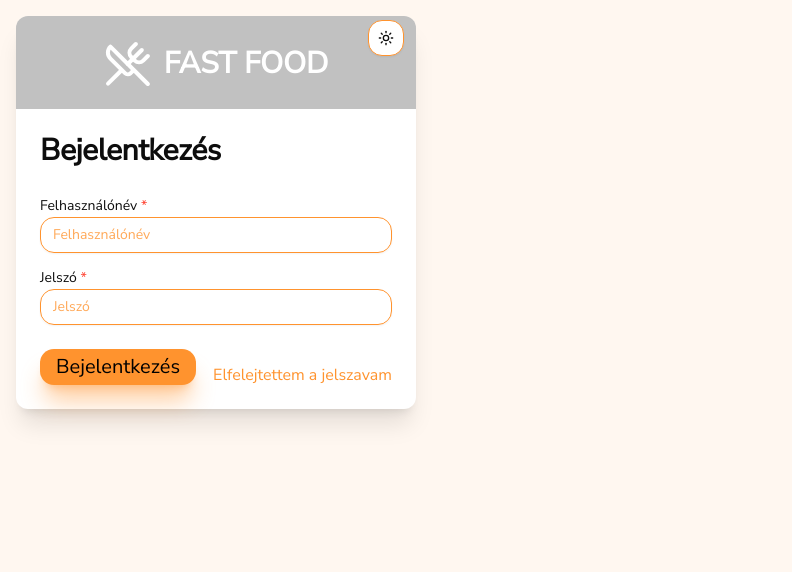
Login oldal › Hibás adatokkal nem enged be
Type "rossznev" into the field with test id "name".
click(216, 235); type("rossznev")  # box [40,217,392,253]
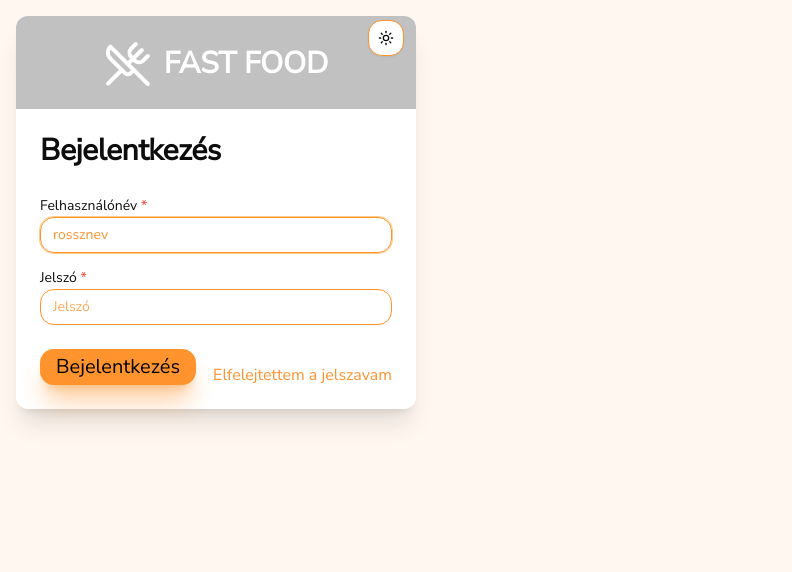
Type "RosszJelszó123!" into the password field with test id "password".
click(216, 307); type("RosszJelszó123!")  # box [40,289,392,325]
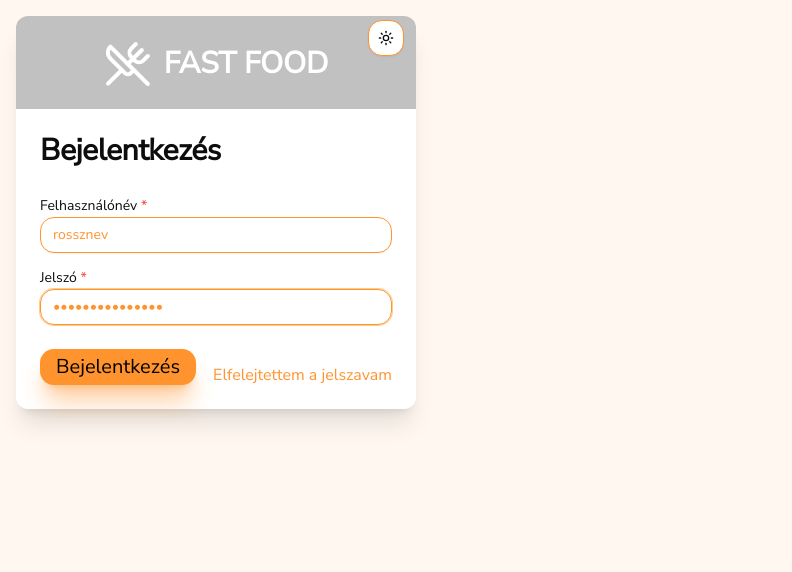
Click the button with test id "submit".
click(118, 367)  # box [40,349,196,385]
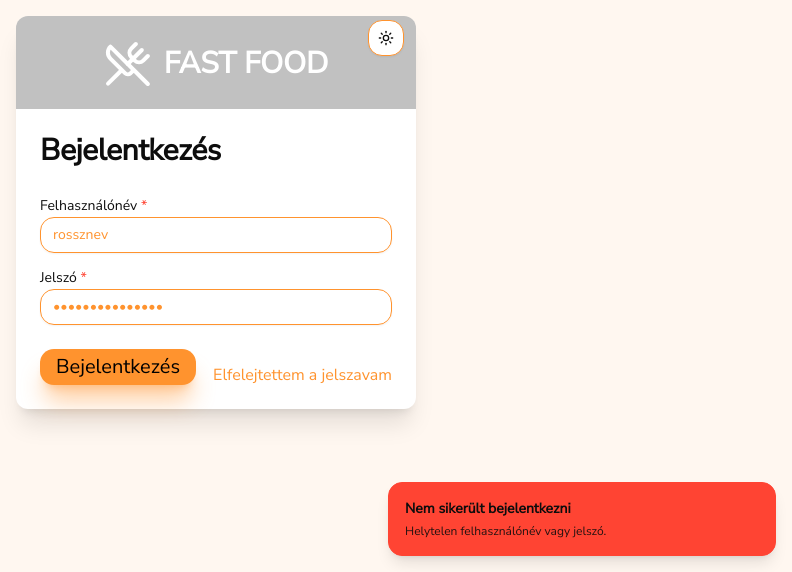
Now the text "Nem sikerült bejelentkezni" is shown, box [405,499,571,518]
